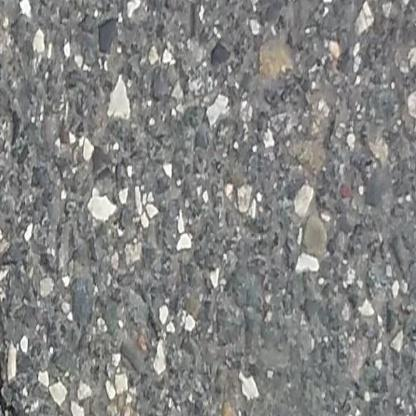Cracks: (0, 252, 31, 416)
